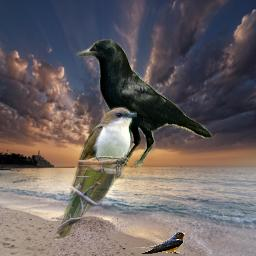Crow: (76, 39, 213, 168)
Cuckoo: (53, 105, 137, 241)
Swallow: (130, 231, 185, 254)
